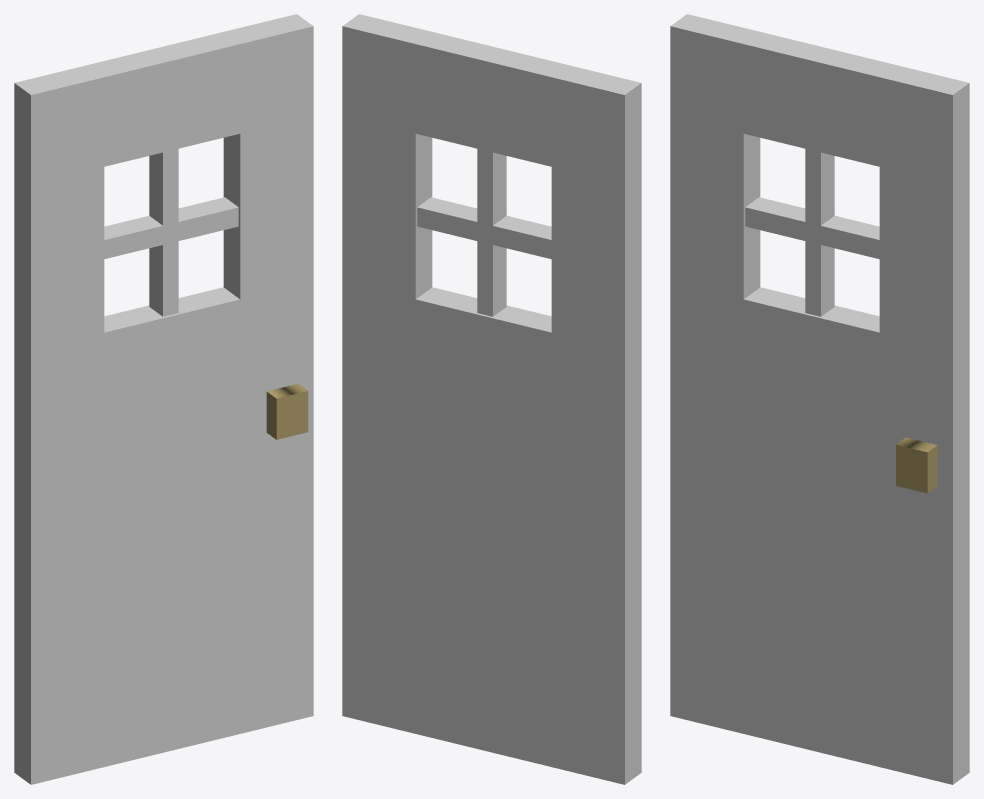
File: entrance-door-metal.glb
The picture shows the model from 3 angles, left to right: view 1: azimuth 30°, elevation 25°; view 2: azimuth 150°, elevation 25°; view 3: azimuth 330°, elevation 25°; orthographic projection.
Visible parts, largest first — view 1: leaf; view 2: leaf; view 3: leaf.
Part boxes in pixels (x1,y1,x2,y2): leaf: (14, 14, 313, 784); leaf: (342, 14, 641, 784); leaf: (670, 14, 969, 784).
Size of the model in its own units: 0.8999 by 2.1 by 0.1469.
Materials: 2 (1 with a texture image).
